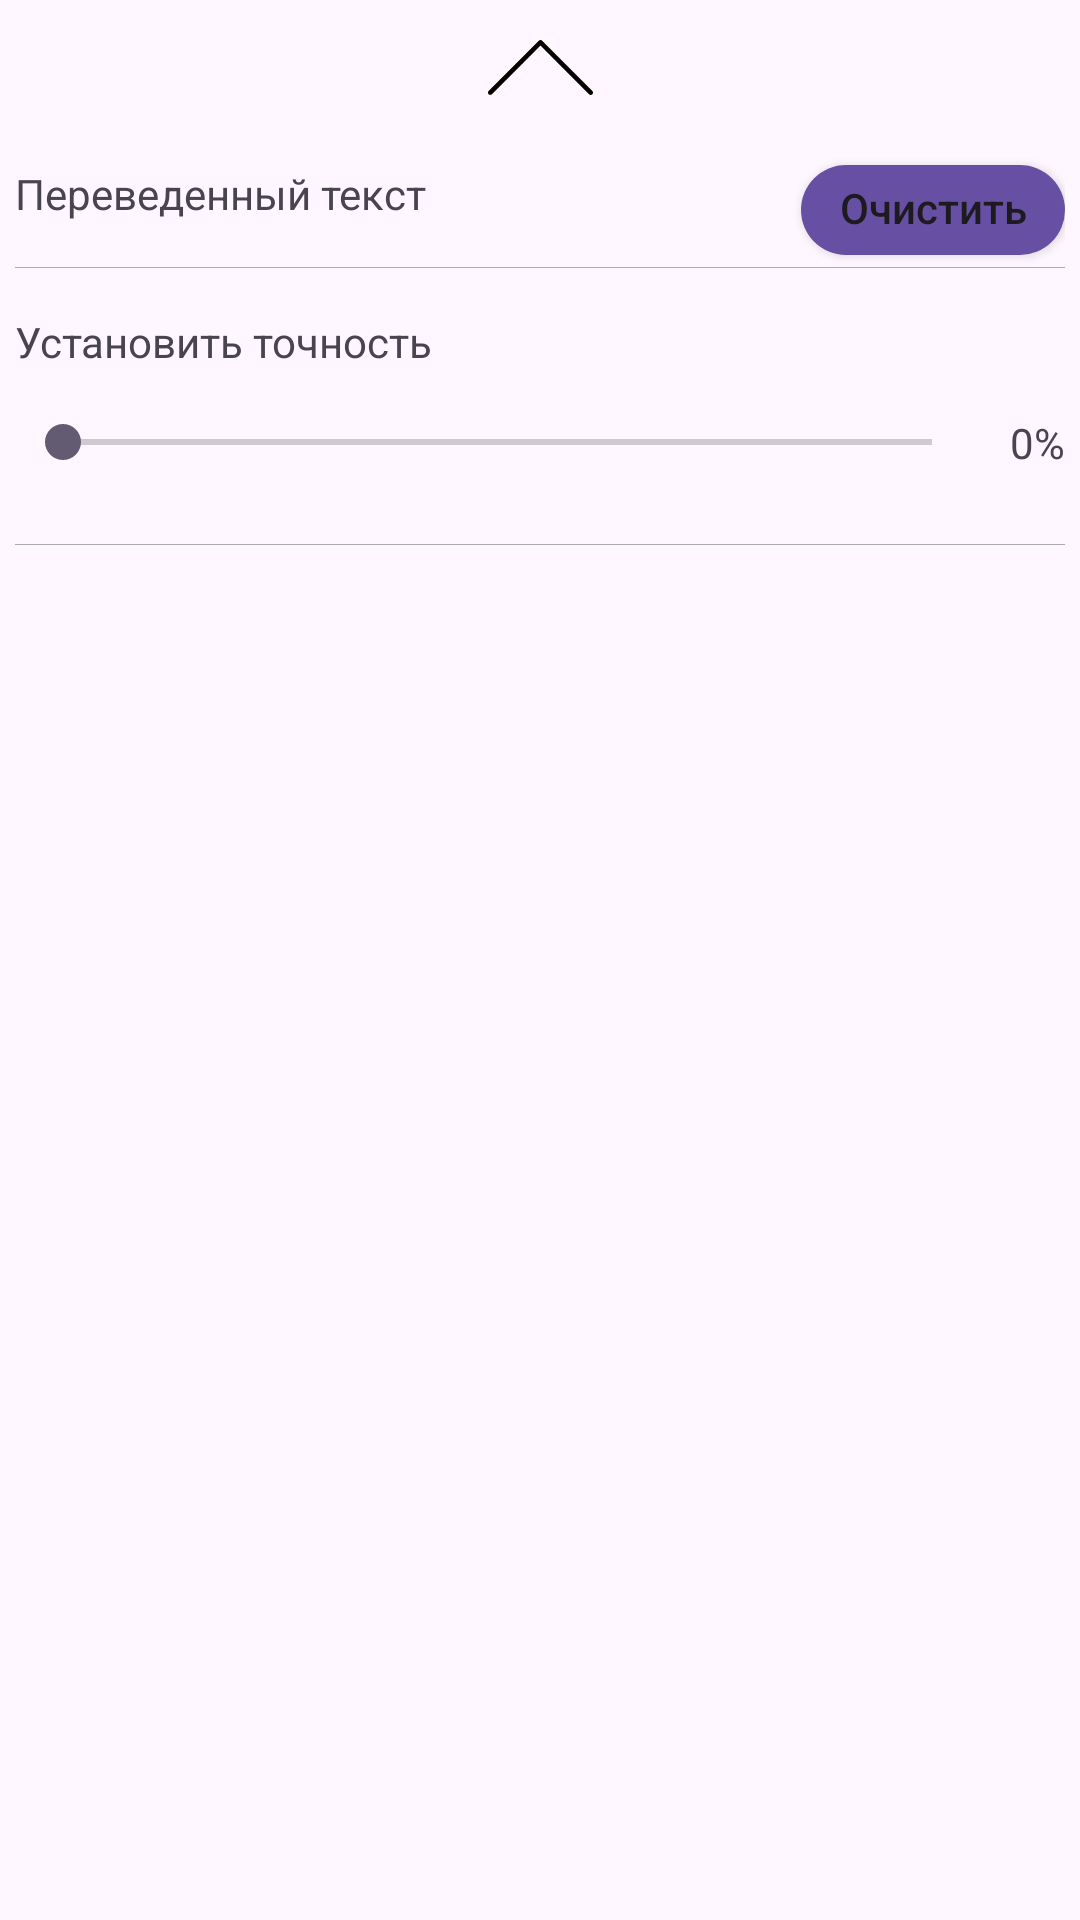

Screen size 1080×1920. Icon name, then its box in pixels as {"left": x1, "top": y1, "right": x2, "bottom": y2}:
up arrow minimal: {"left": 488, "top": 40, "right": 593, "bottom": 95}
